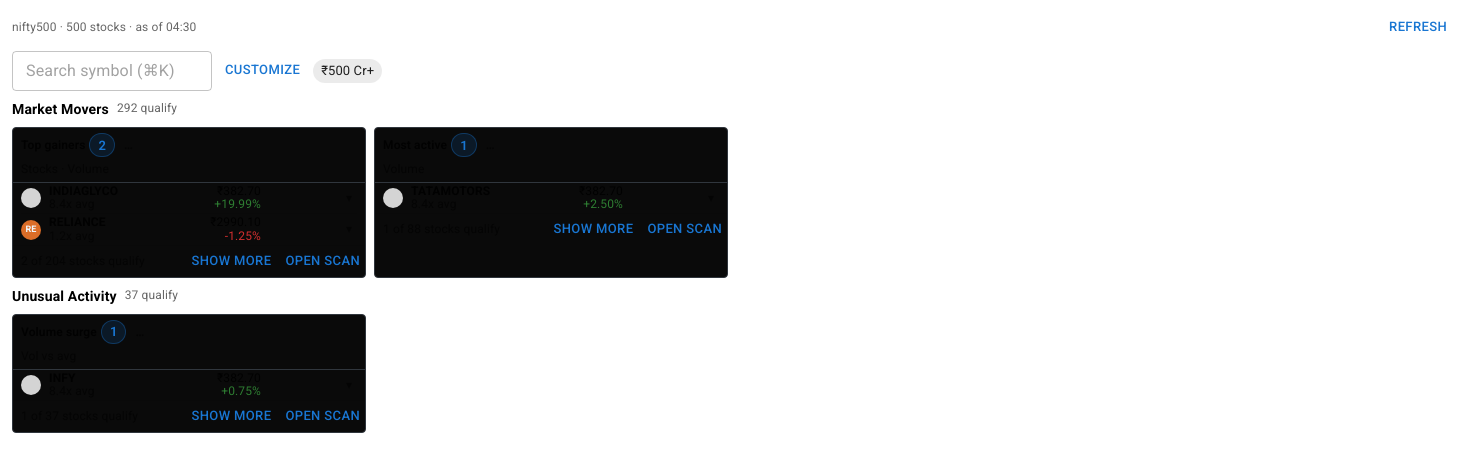
Test: DashboardView round-2 › customize menu hides a panel and persists it
Check: the element with test id "dashboard-card-gainers" is shown, box [12,127,366,278]
Check: the field with test id "dashboard-search" is shown, box [12,51,212,91]
Click the button with test id "dashboard-customize-button" at [263, 71], box [220,55,305,86]
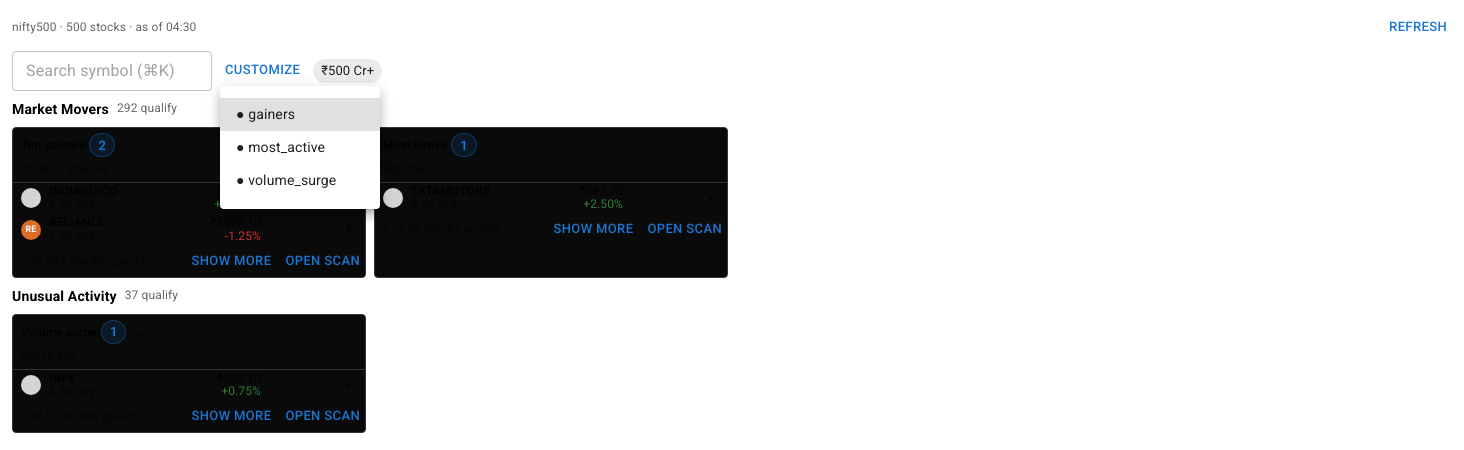
Click the menu item with test id "dashboard-customize-gainers" at [300, 114], box [220,98,380,131]
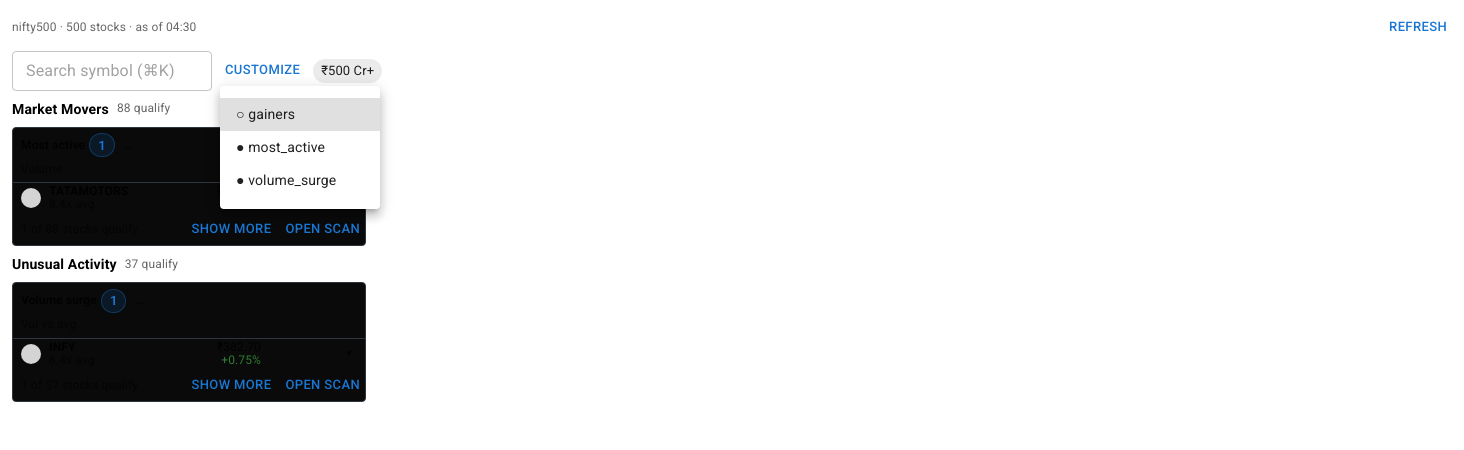
Check: the element with test id "dashboard-card-most_active" is shown, box [12,127,366,246]
Check: the element with test id "dashboard-card-gainers" is gone
